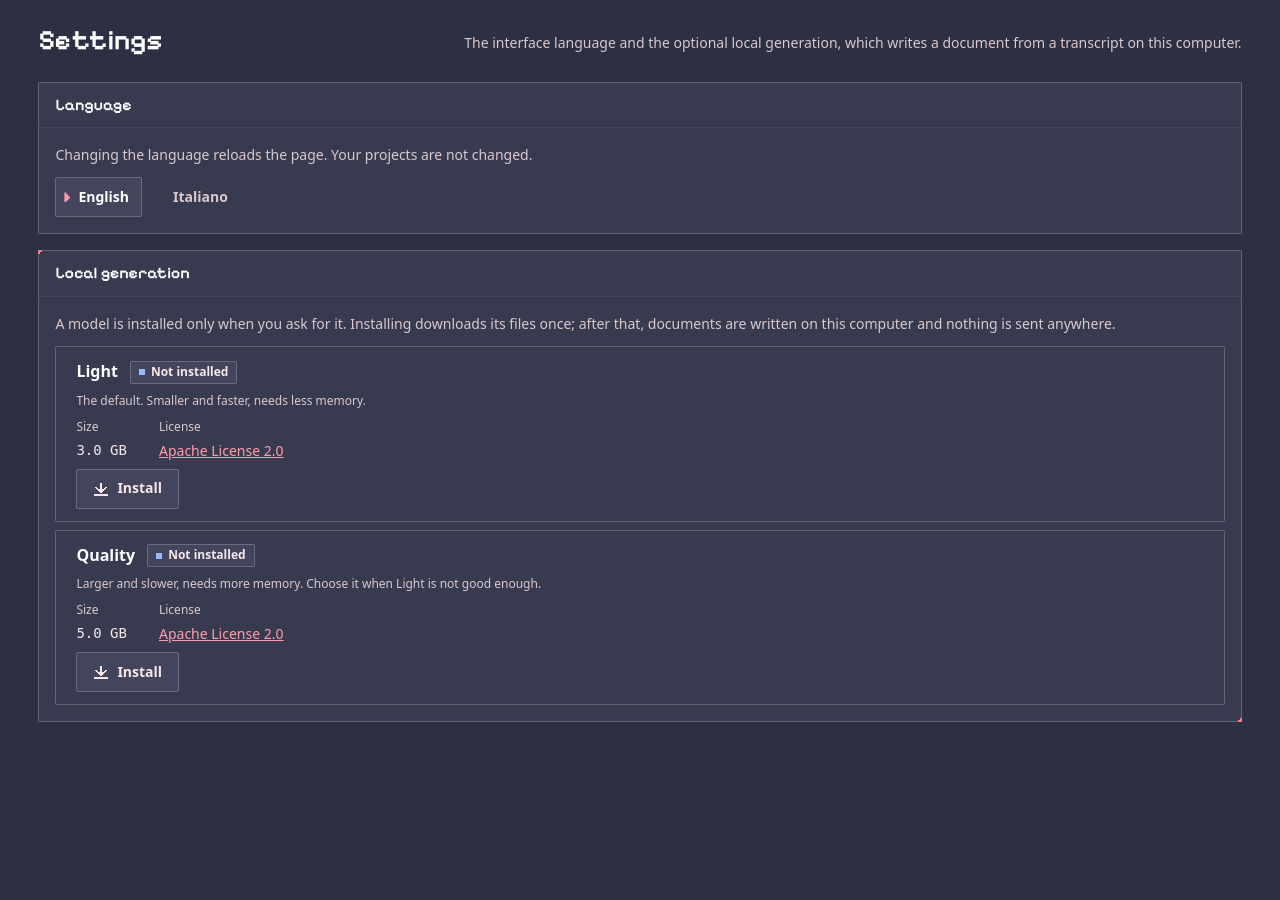
Test: SettingsComponent › closes the license panel without any request when the user cancels
Click the button "Install" below "3.0 GB": [128, 489] box x1=76 y1=469 x2=179 y2=509
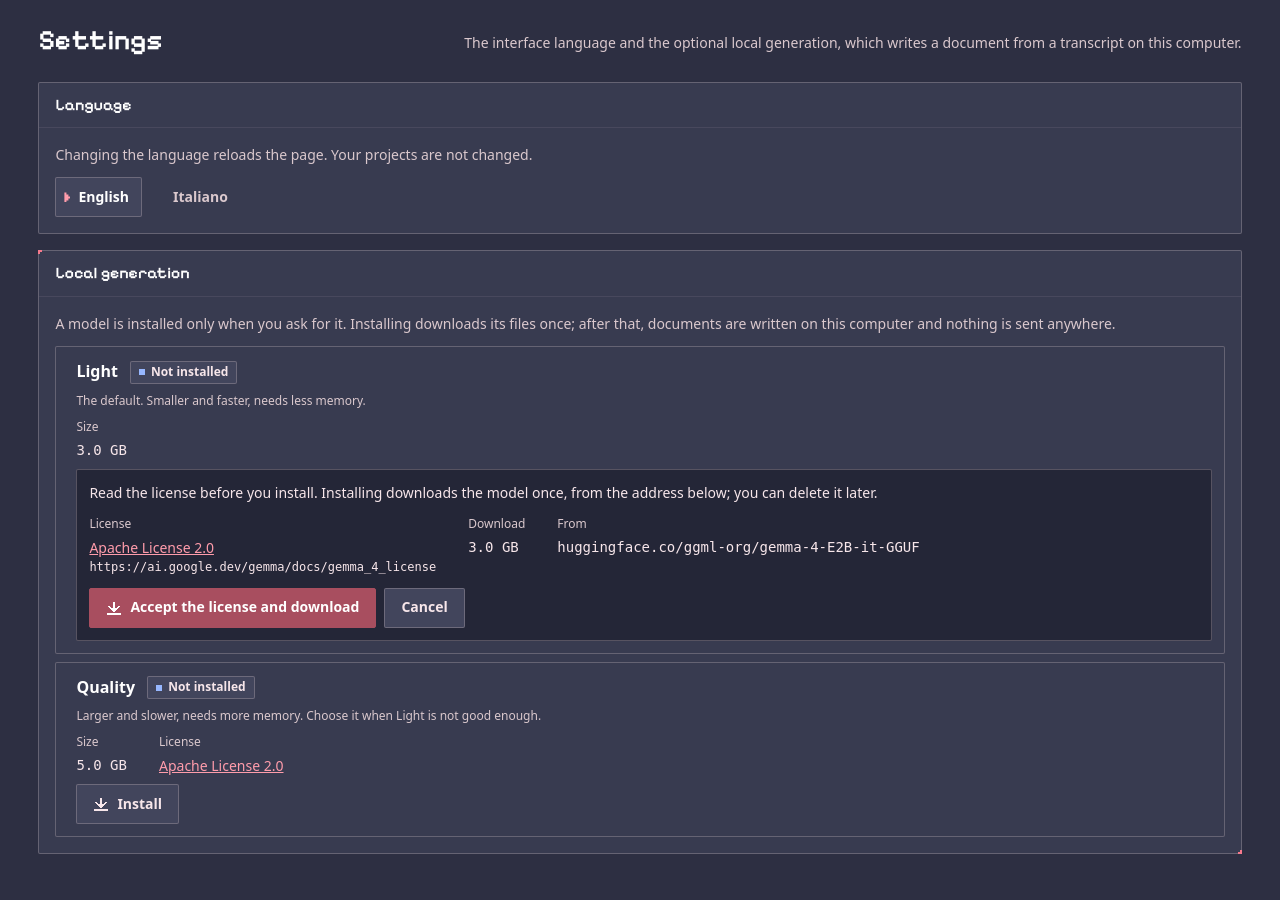
Click the button "Cancel": [425, 608] box x1=384 y1=588 x2=465 y2=628
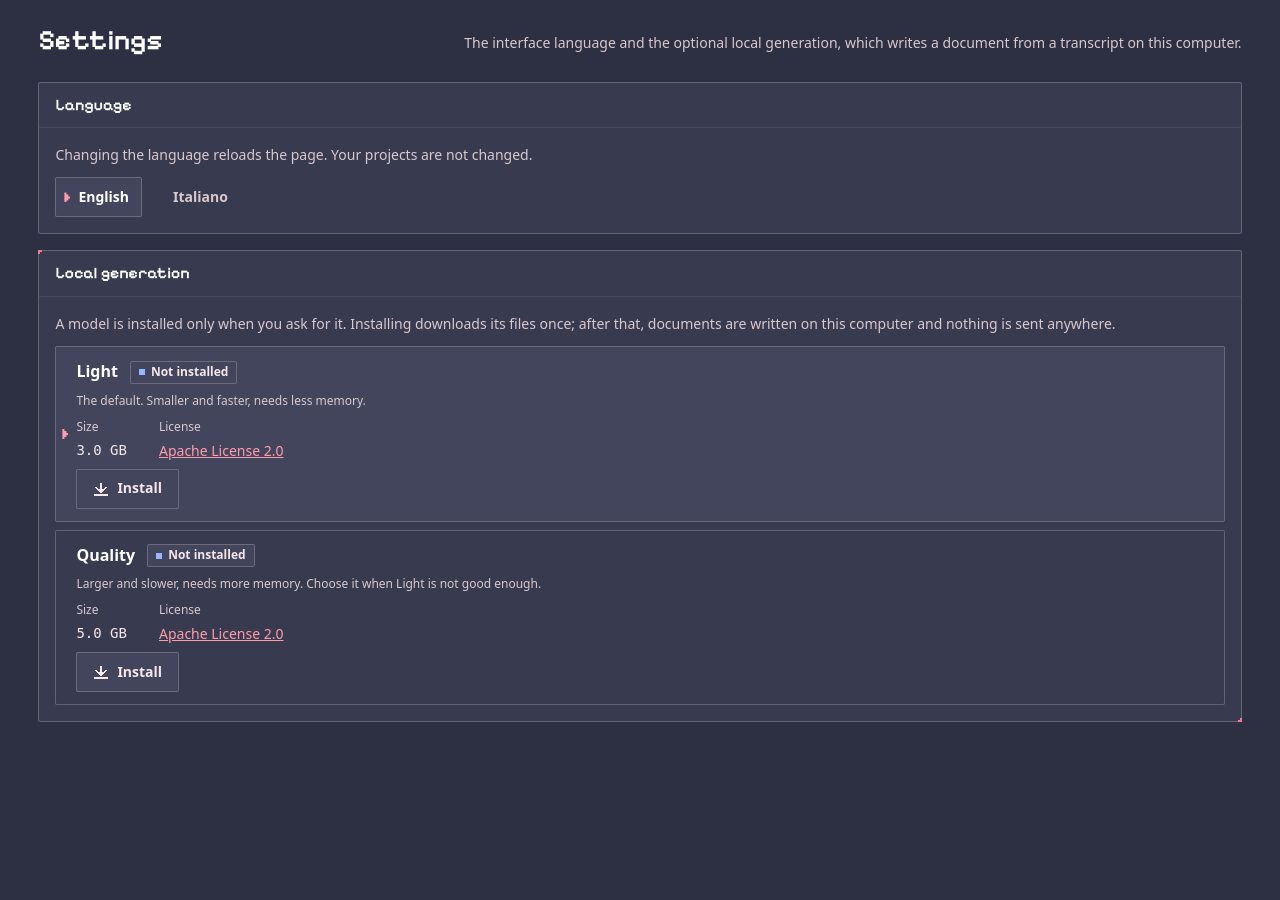
Expected: the button "Install" below "3.0 GB" is shown, x1=76 y1=469 x2=179 y2=509
Now the element with class "model-install" is gone
